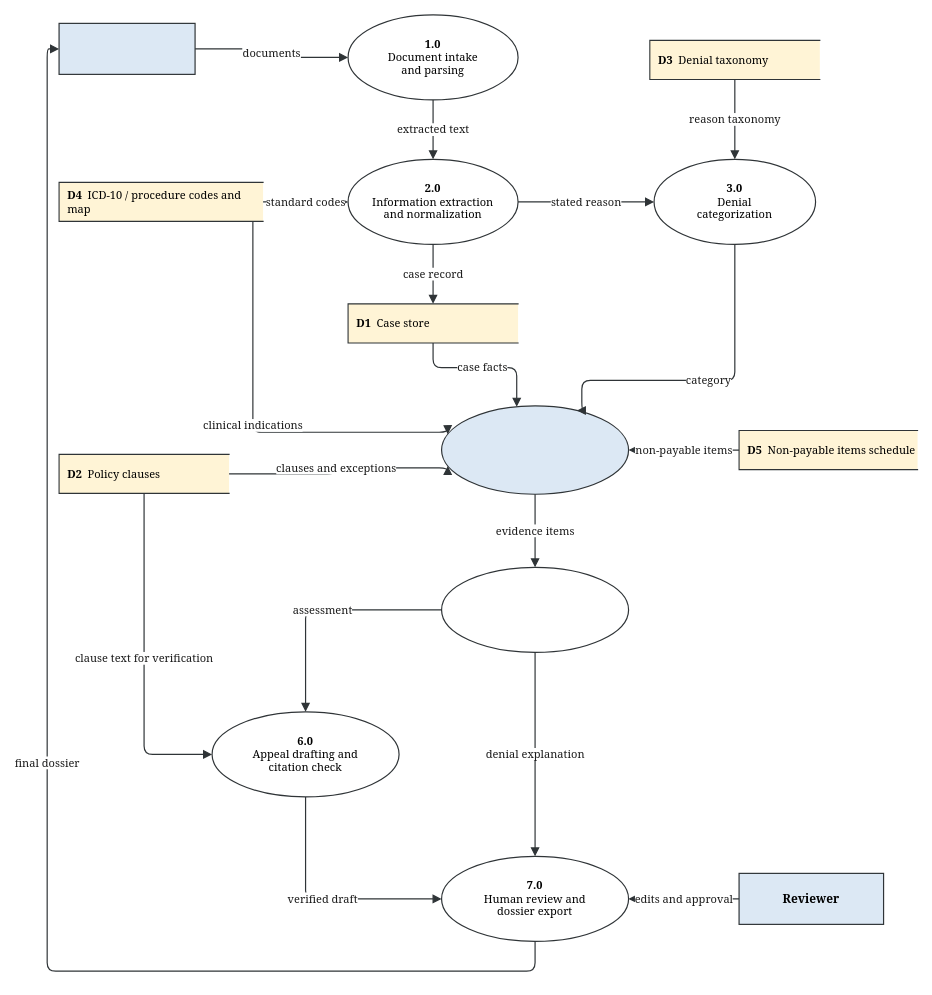
The diagram is 932 pixels wide and 995 high, and some of its shapes have lost their labels. The shapes that lost their labels are listed below. From the top down, each one's centre as x and y in pixels, then its label:
At (x=126, y=48): "Policyholder".
At (x=535, y=449): "4.0 Category-specific investigation".
At (x=535, y=609): "5.0 Assessment and reasoning".
